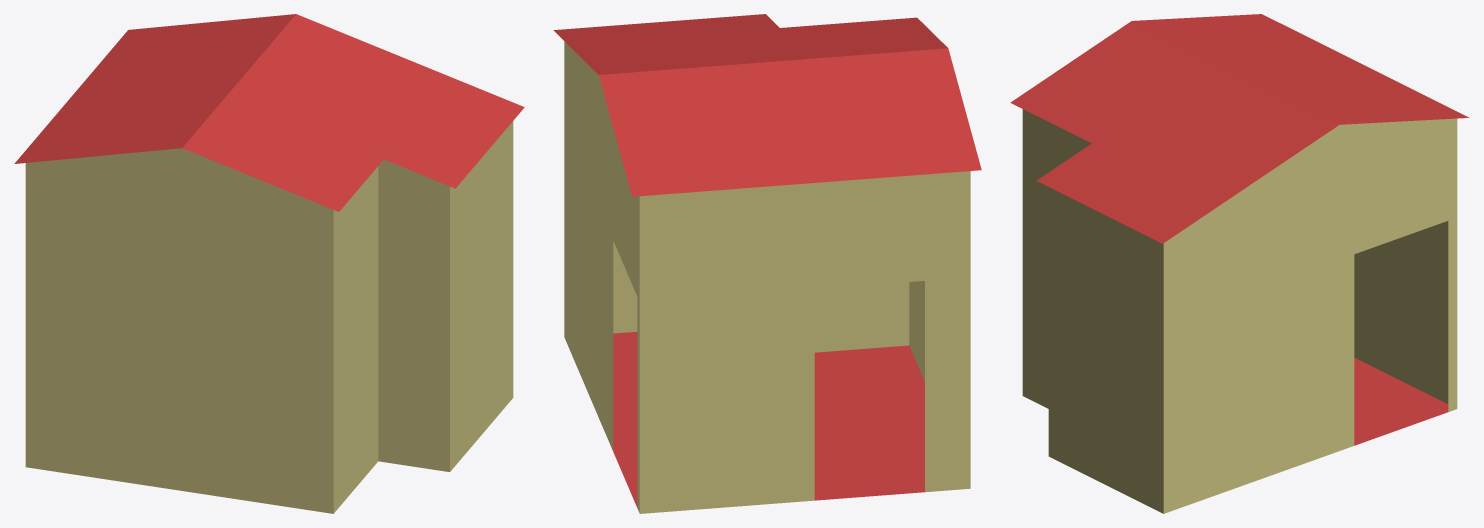
The picture shows the model from 3 angles, left to right: view 1: azimuth 30°, elevation 25°; view 2: azimuth 150°, elevation 25°; view 3: azimuth 270°, elevation 25°; orthographic projection. The views are drawn at different scales.
Size of the model in its own units: 14.52 by 13.2 by 10.49.
